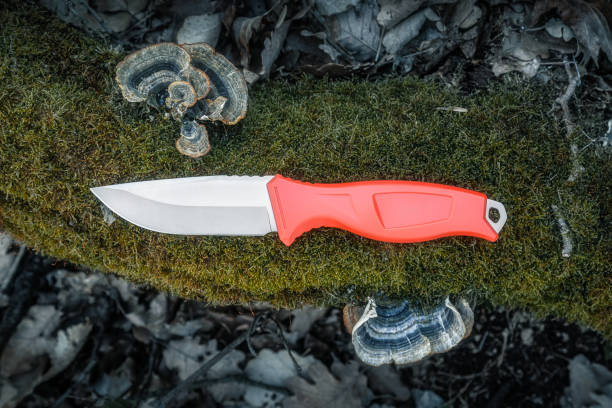knife: (86, 172, 508, 249)
